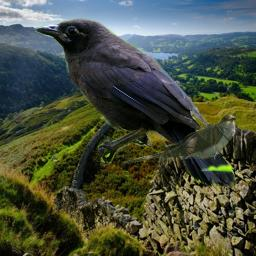Crow: (35, 18, 237, 189)
Cuckoo: (120, 113, 236, 166)
